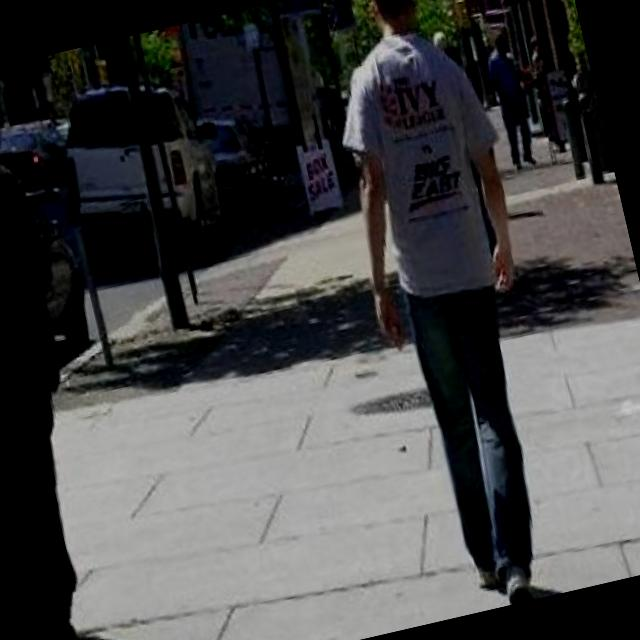Person: (283, 0, 599, 621), (0, 65, 133, 640)
